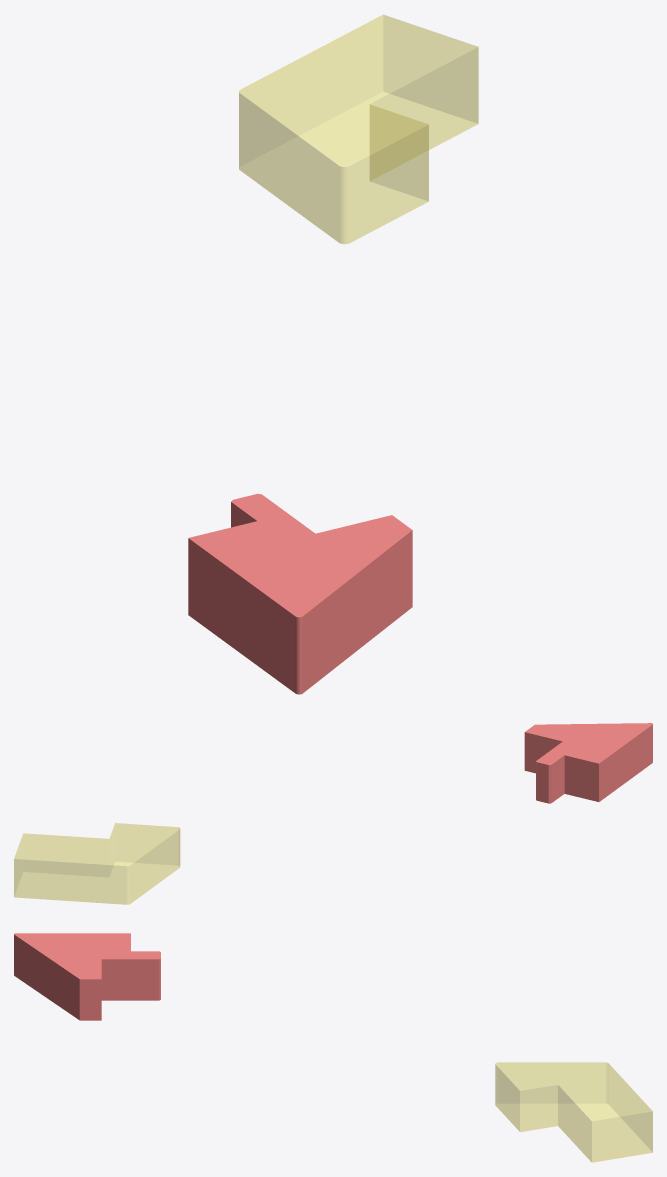
File: OPS level3 bubble.fbx
The picture shows the model from 3 angles, top to bottom: view 1: azimuth 30°, elevation 25°; view 2: azimuth 150°, elevation 25°; view 3: azimuth 270°, elevation 25°; orthographic projection. The views are drawn at different scales.
Visible parts, largest first — view 1: G_313_1, Group1; view 2: G_313_1, Group1; view 3: G_313_1, Group1.
Part boxes in pixels (x1,y1,x2,y2): G_313_1: (238,14,478,244); Group1: (188,493,412,694); G_313_1: (14,823,180,904); Group1: (524,723,652,803); G_313_1: (495,1062,652,1162); Group1: (14,933,160,1020).
Size of the model in its own units: 41091 by 4200 by 58938.
